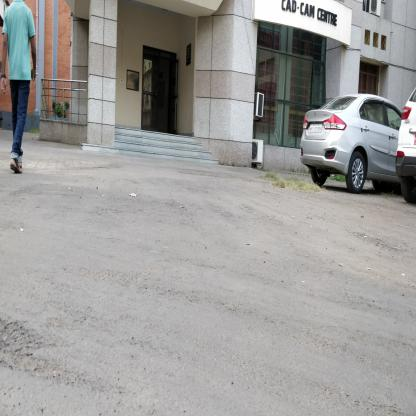stairs: (121, 136, 196, 161)
